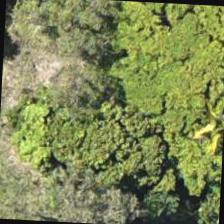Kelapa_Sawit: (157, 82, 223, 176)
